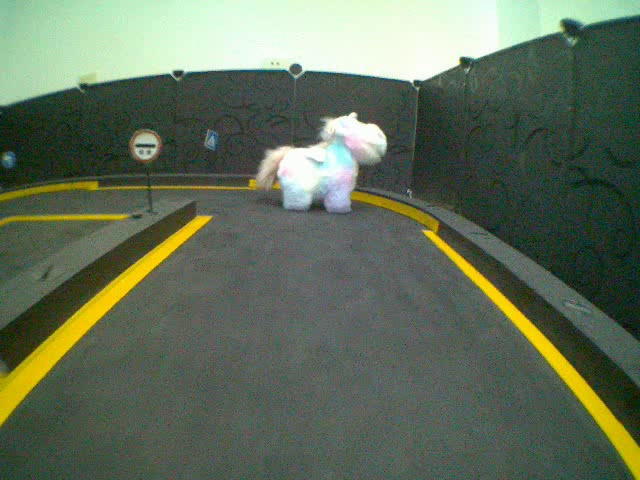unicorn: (256, 105, 394, 217)
